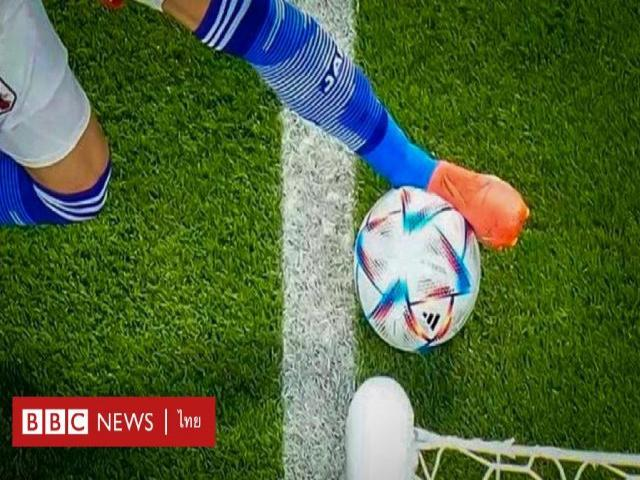round ball: (351, 180, 487, 355)
